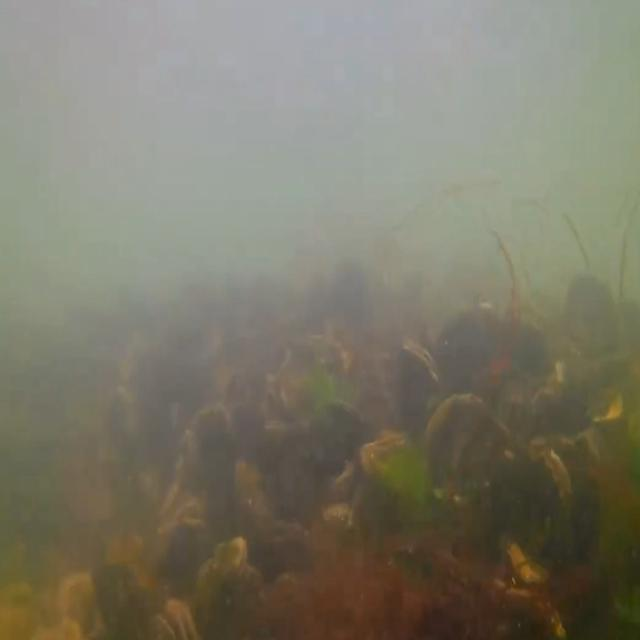Oyster-Closed: (397, 339, 443, 462), (360, 430, 424, 490), (194, 538, 250, 590)
Oyster-Indeterminate: (422, 394, 517, 506), (533, 434, 613, 523), (188, 402, 239, 535), (500, 443, 572, 536), (318, 398, 372, 489), (493, 574, 566, 637), (233, 457, 273, 558), (162, 427, 199, 529), (507, 540, 568, 585), (157, 496, 207, 546)
